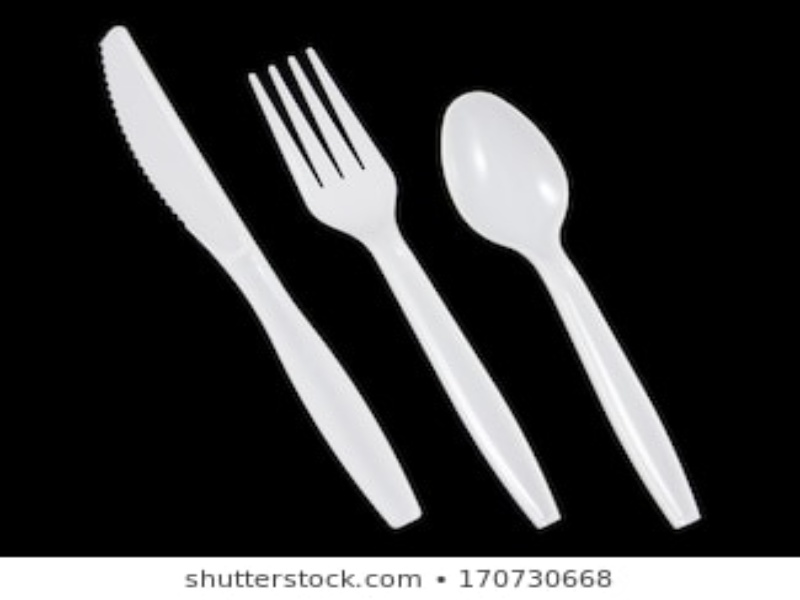plastic-silverware: (97, 25, 427, 533), (247, 47, 565, 532), (437, 90, 707, 532)
